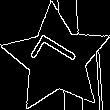L_SE: (28, 33, 86, 85)
